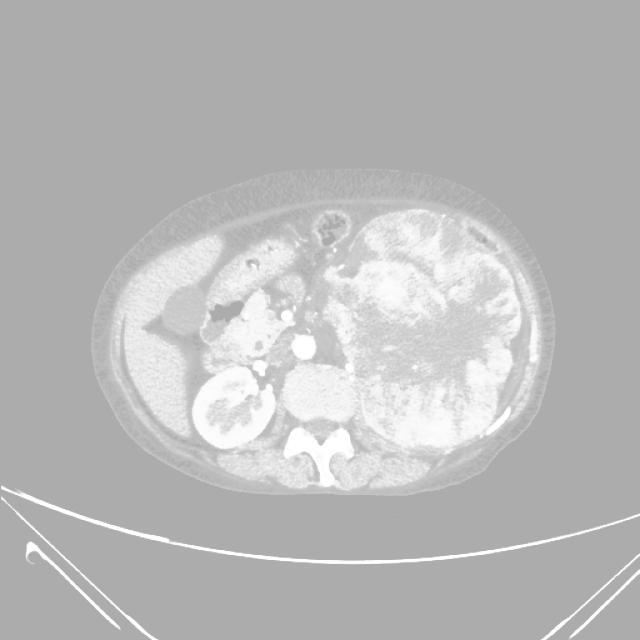TUMOR: (111, 234, 361, 439)
